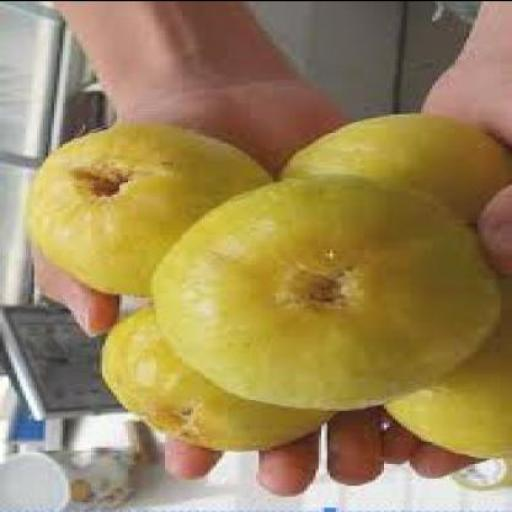biodegradable: (145, 172, 501, 409), (20, 122, 279, 295), (96, 298, 336, 448), (276, 108, 510, 221), (378, 314, 509, 458)
